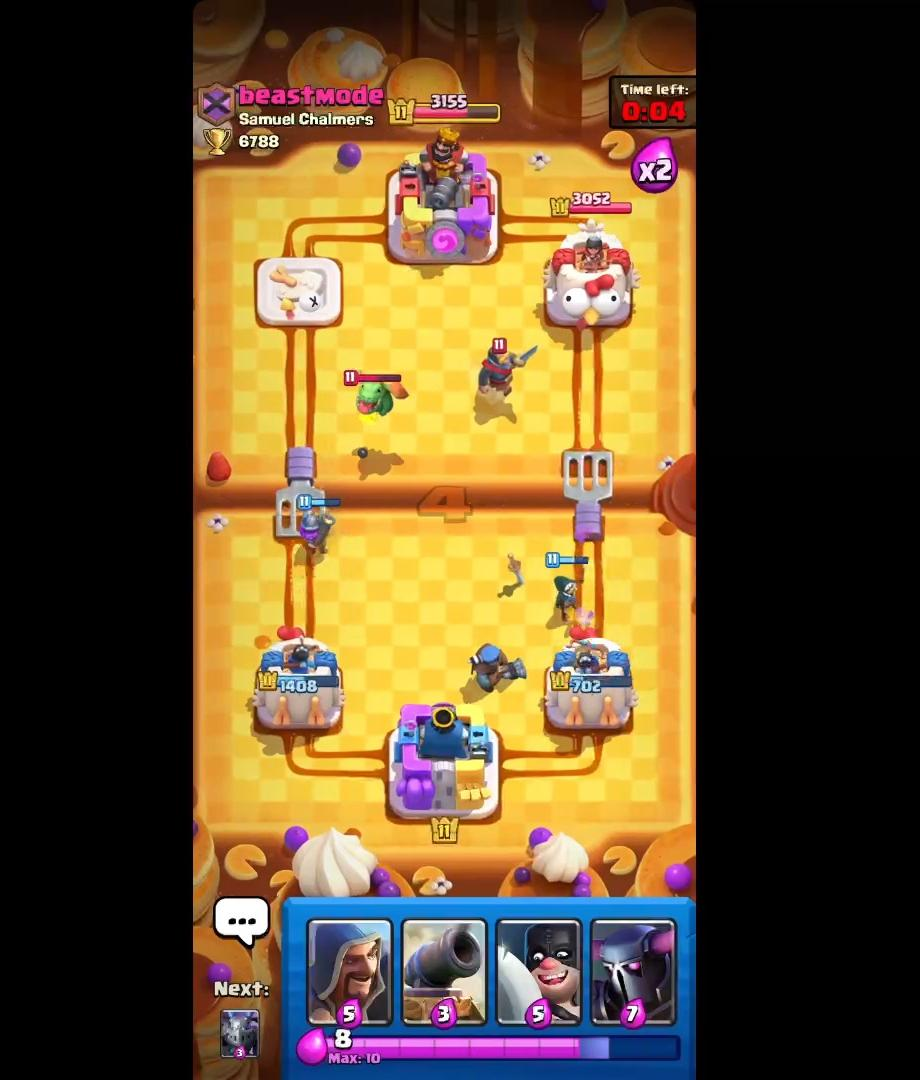Baby Dragon: (335, 365, 415, 425)
Knight: (467, 330, 531, 406)
